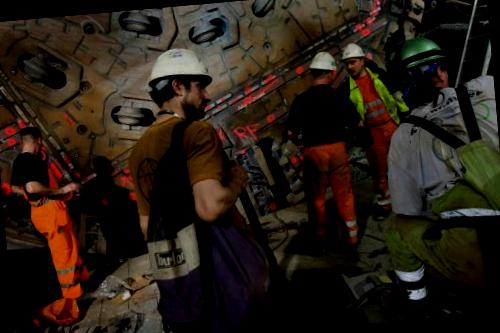no_helmet: (13, 118, 48, 160)
